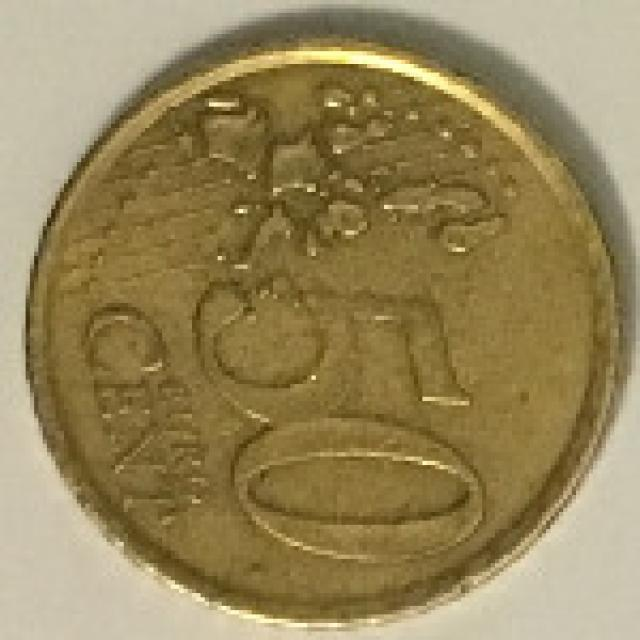50c: (4, 9, 636, 632)
